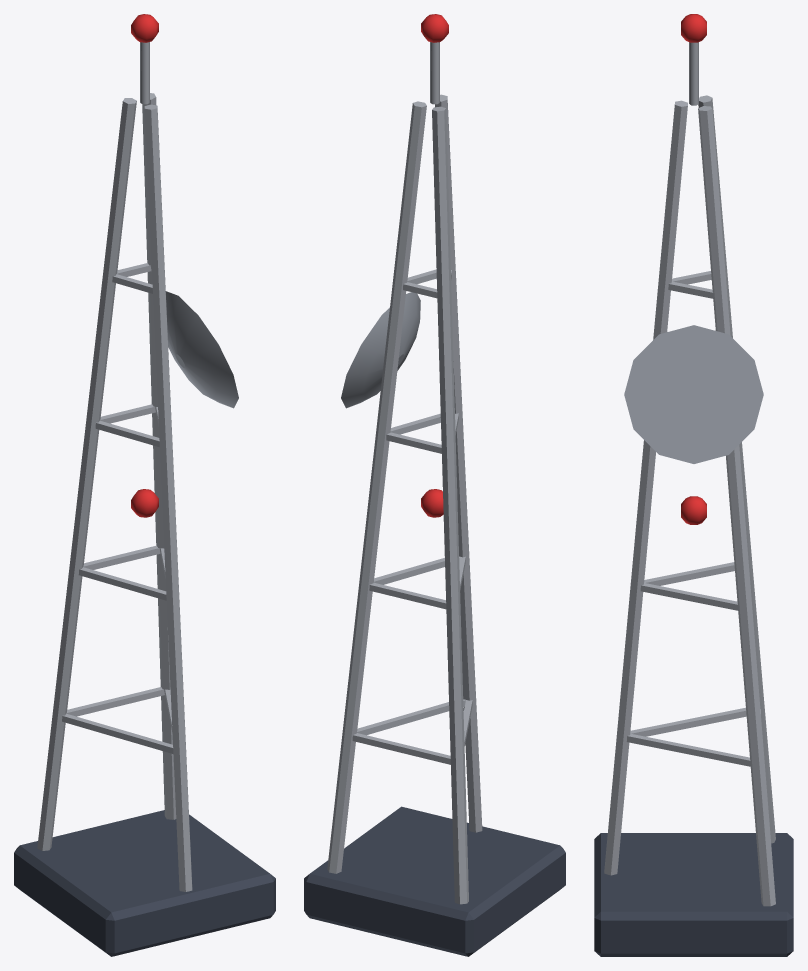
Rendered from neon-deco2.glb.
3 renders of one model, left to right at view 1: azimuth 30°, elevation 25°; view 2: azimuth 150°, elevation 25°; view 3: azimuth 270°, elevation 25°, orthographic.
Visible parts, largest first — view 1: neon-deco2; view 2: neon-deco2; view 3: neon-deco2.
Part boxes in pixels (left/top/right/bottom): neon-deco2: left=14, top=14, right=275, bottom=956; neon-deco2: left=304, top=14, right=565, bottom=956; neon-deco2: left=594, top=14, right=793, bottom=956.
Bounding box in the file's own units: 1.2 × 5.99 × 1.2.
